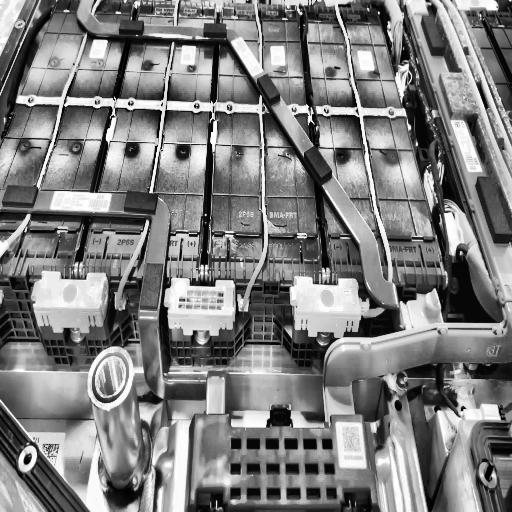busbar: (76, 0, 401, 315), (321, 5, 512, 422), (0, 182, 229, 417)
high_volt_cable: (1, 0, 101, 265), (332, 5, 400, 324), (113, 0, 181, 316), (431, 1, 512, 213), (441, 0, 511, 167), (239, 0, 273, 319)
low_volt_cable: (405, 16, 452, 272)
